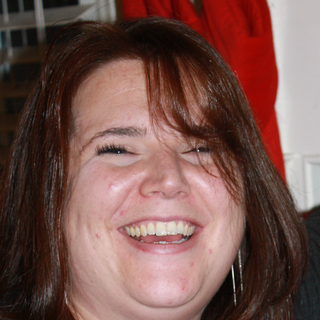eye: (92, 140, 139, 163)
